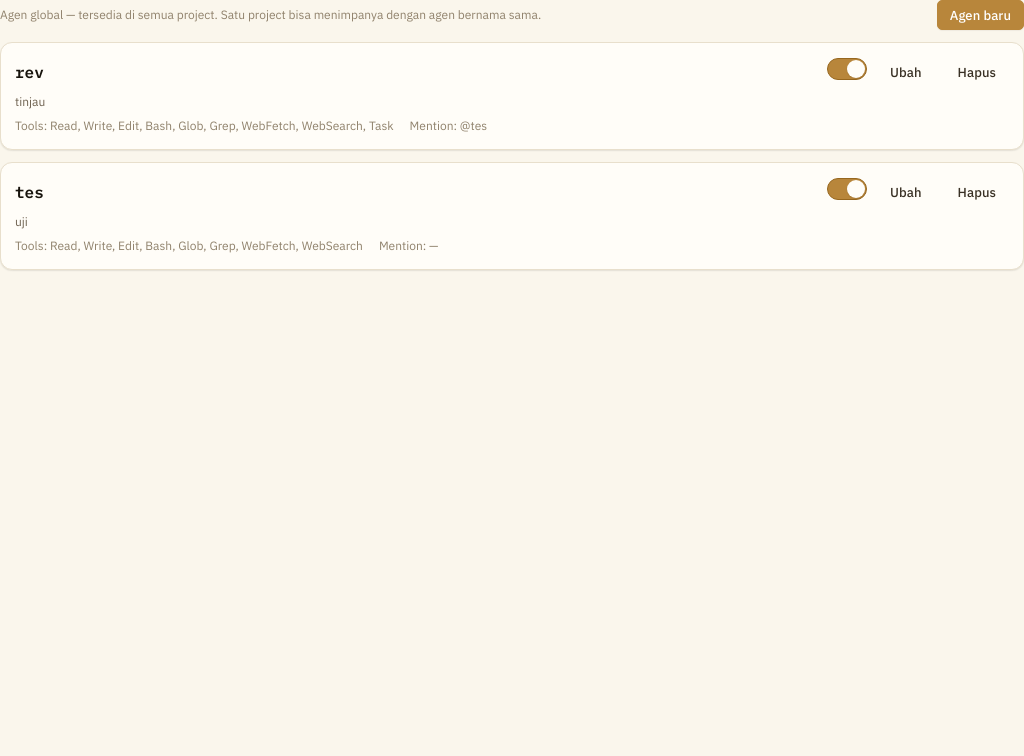
CustomAgentsPanel › menampilkan mention tak dikenal saat server menolak 400
Click the button "Agen baru" at point(980, 15), box [937,0,1023,30]
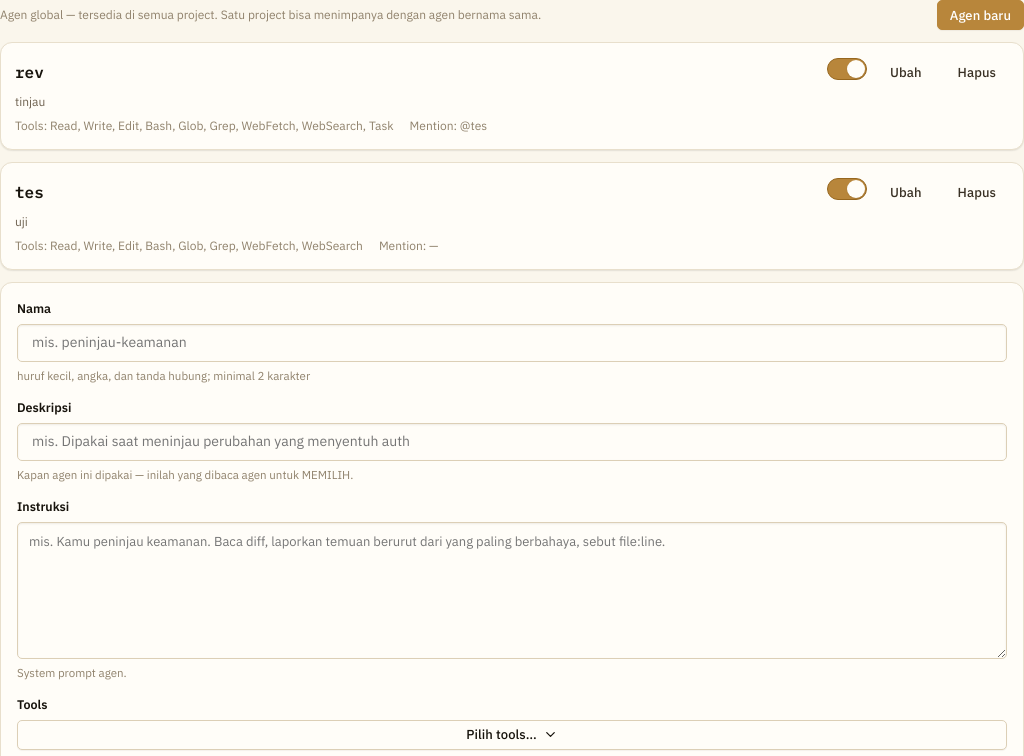
Type "agn-a" into the field labelled "Nama" at point(512, 343), box [30,333,994,352]
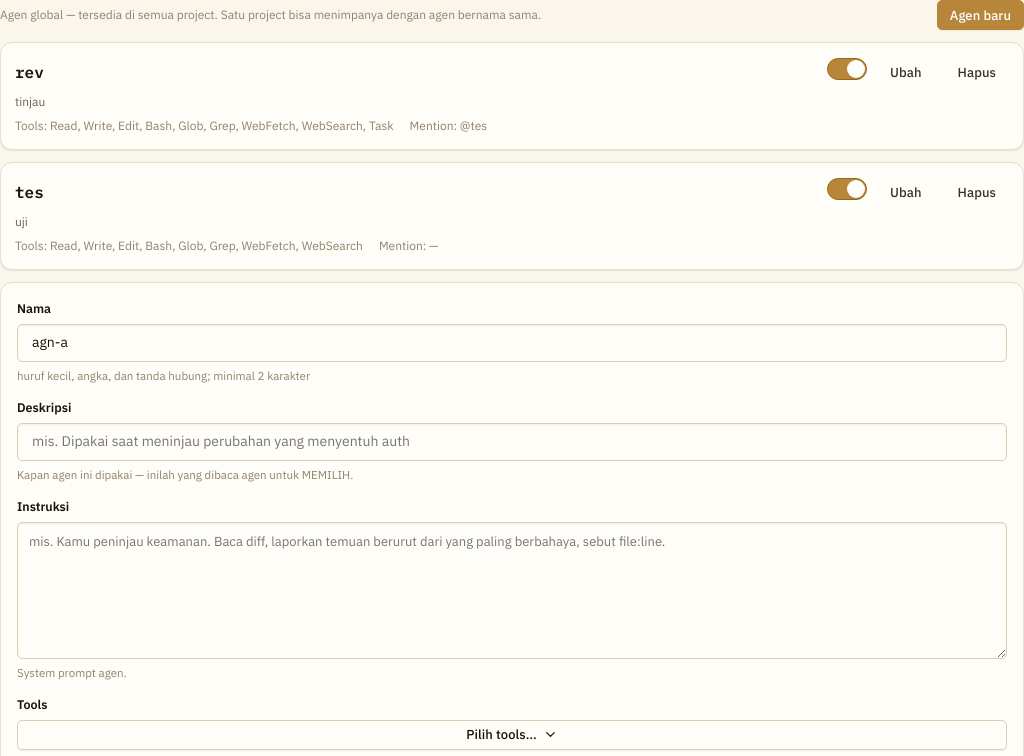
Type "d" into the field labelled "Deskripsi" at point(512, 442), box [30,432,994,451]
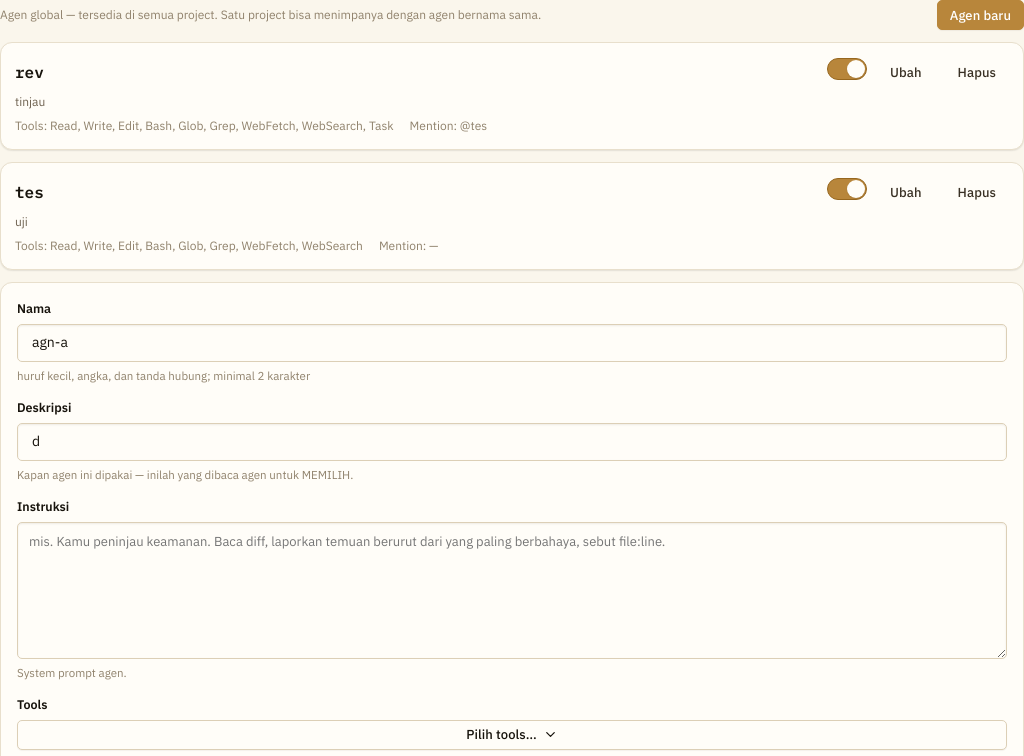
Replace the text in the text box labelled "Instruksi" with "i" at point(512, 590), box [17,522,1007,659]
(page scrolled)
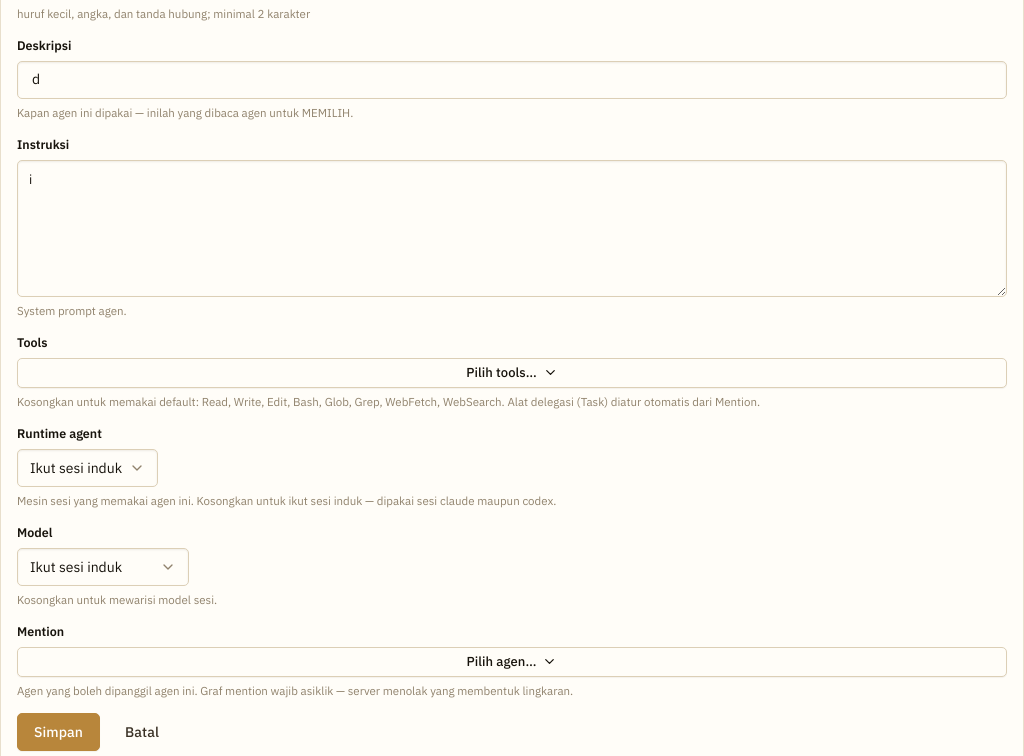
Click the button "Simpan" at point(58, 732), box [17,713,100,751]
(page scrolled)
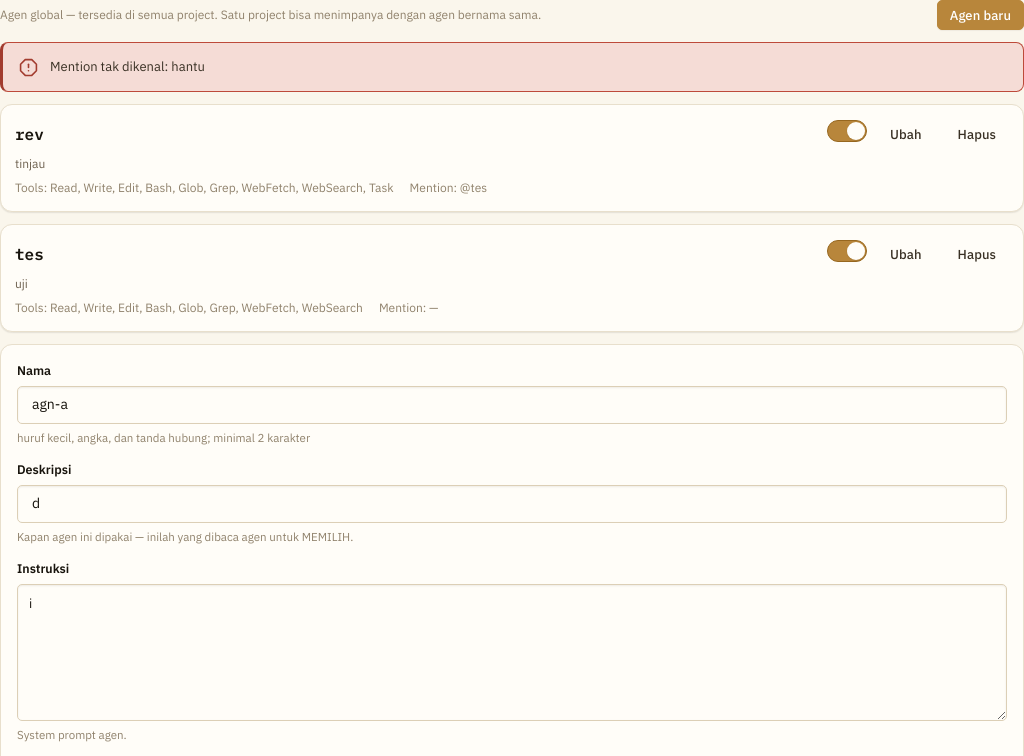
Check: the text "Mention tak dikenal: hantu" is shown, box [50,58,205,75]
